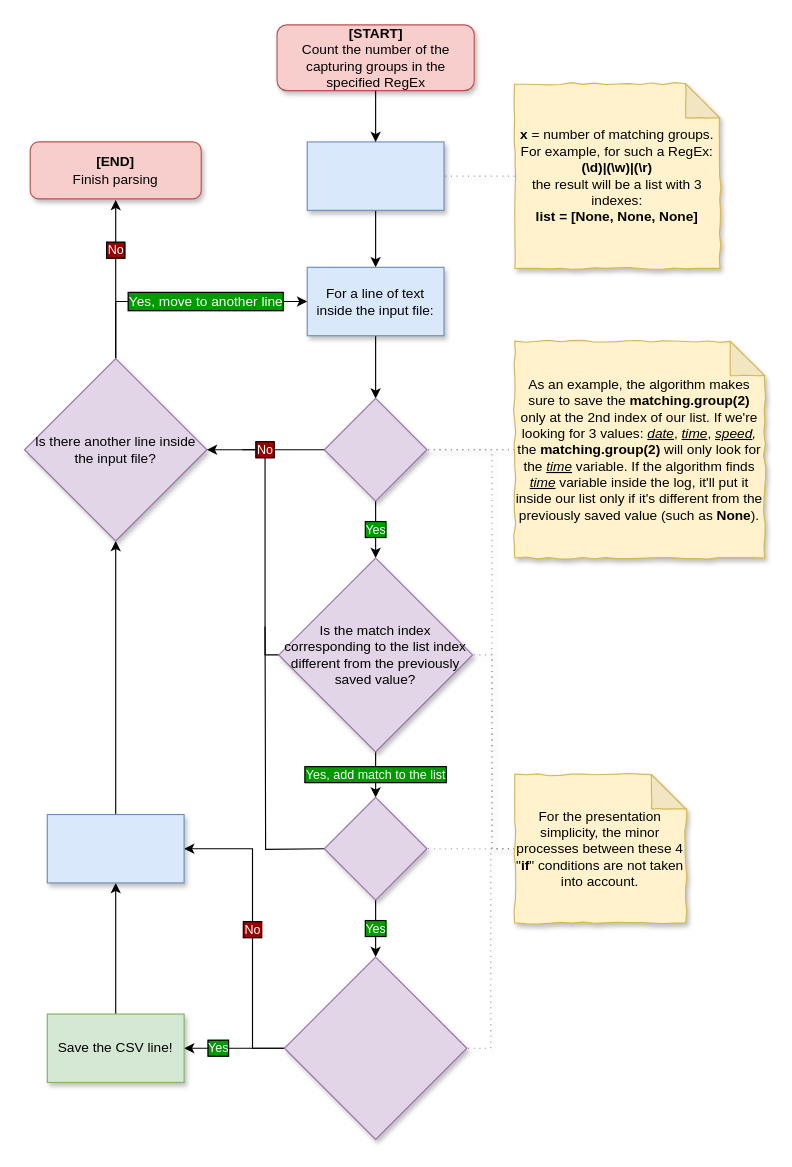
Image size: 792x1167. Some labels were removed from this diagram. The shapes that lost their labels are listed below. From the top down, each one's centre as x and y in pixels, then its label:
the point at 376,177: Initialise a static Python list with x " None " values as the placeholder
the point at 376,451: Match found?
the point at 116,850: Clean the list by reinitialising it with " None " values
the point at 376,850: Is the list of values full?
the point at 376,1049: Is the list of values different from the previously saved one?
